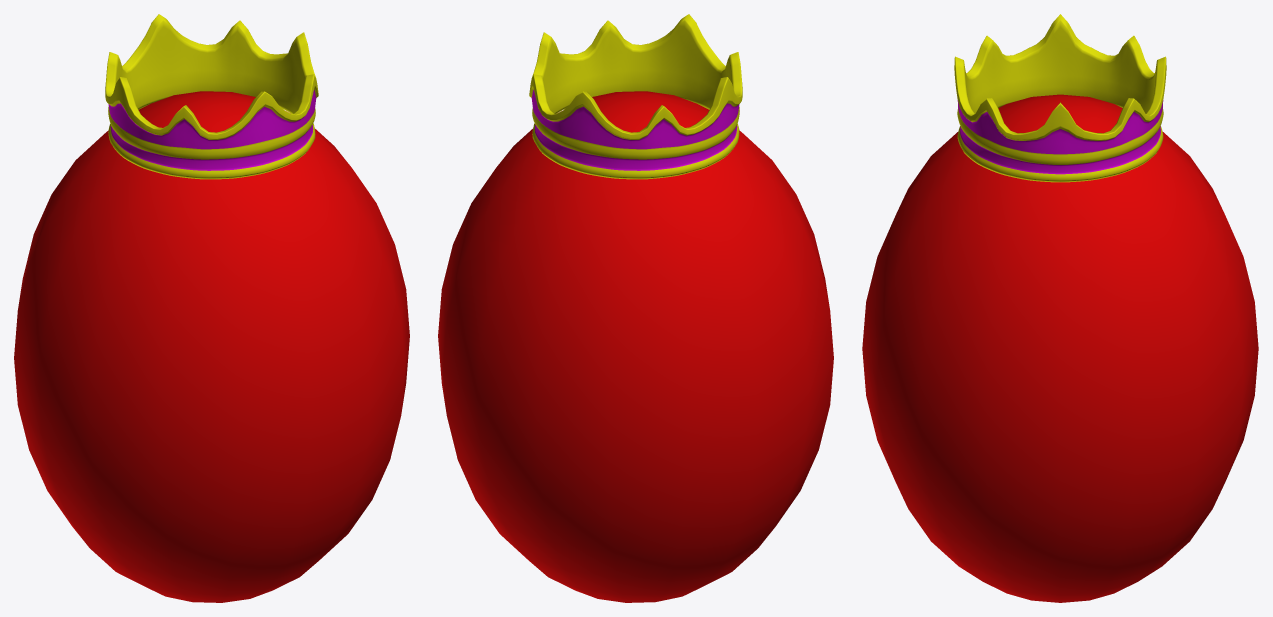
File: eggsBenedictP1.fbx
The picture shows the model from 3 angles, left to right: view 1: azimuth 30°, elevation 25°; view 2: azimuth 150°, elevation 25°; view 3: azimuth 270°, elevation 25°; orthographic projection.
Parts seen in each view (by area): view 1: eggBenedictPhase1; view 2: eggBenedictPhase1; view 3: eggBenedictPhase1.
Part boxes in pixels (box(x1,y1,x2,y2)): eggBenedictPhase1: box(14, 14, 409, 602); eggBenedictPhase1: box(438, 14, 833, 602); eggBenedictPhase1: box(862, 14, 1258, 602).
Bounding box in the file's own units: 666 × 988 × 666.
